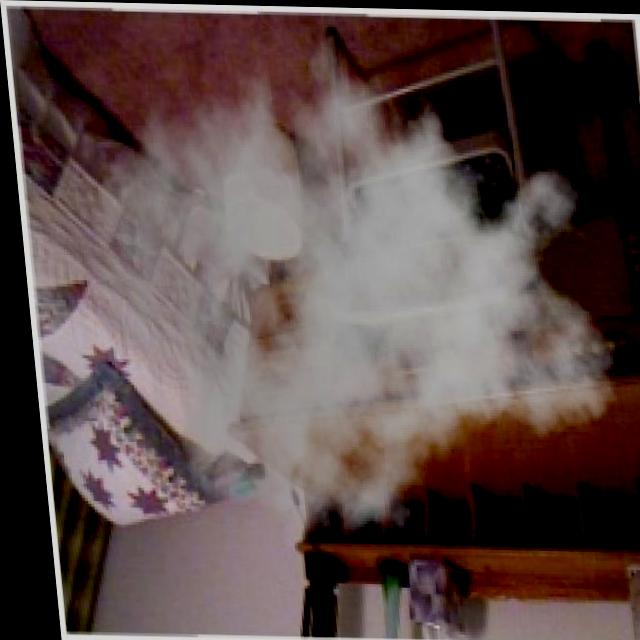no_helmet: (69, 7, 628, 570)
